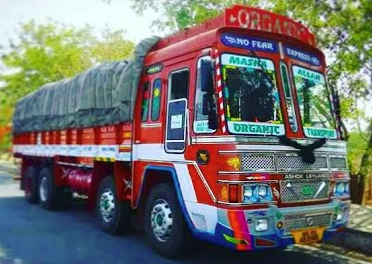truck: (11, 4, 354, 256)
